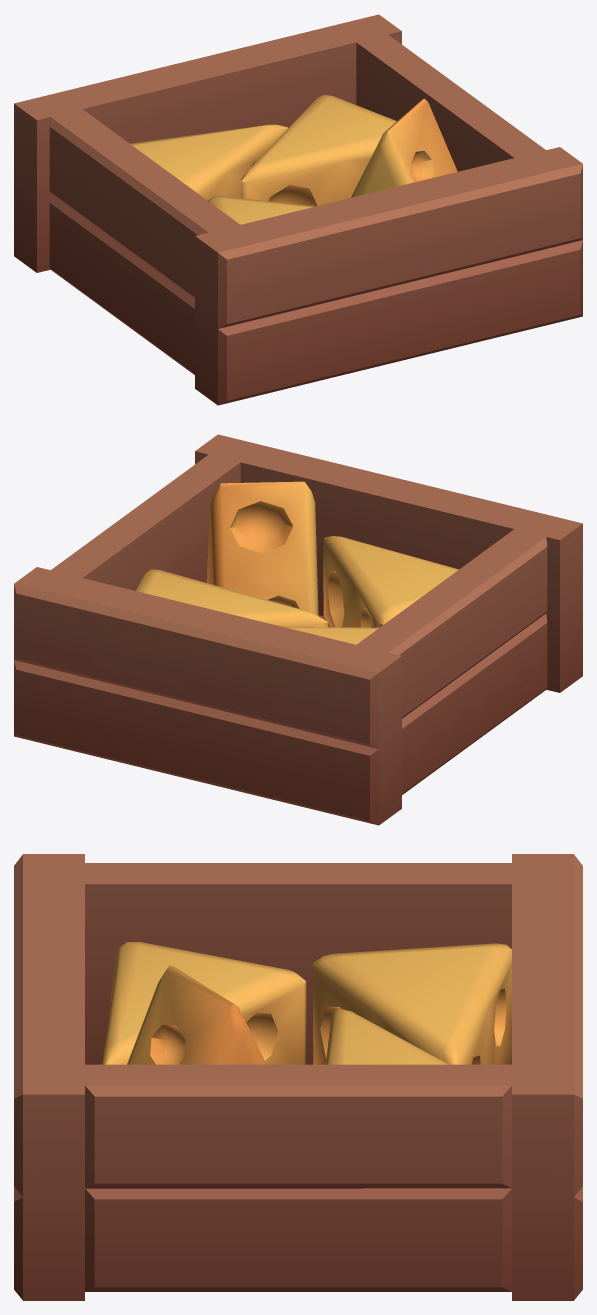
File: crate_cheese.glb
3 views of the same model, one above another, from view 1: azimuth 30°, elevation 25°; view 2: azimuth 150°, elevation 25°; view 3: azimuth 270°, elevation 25° (orthographic). The views are drawn at different scales.
Visible parts, largest first — view 1: crate_cheese; view 2: crate_cheese; view 3: crate_cheese.
Boxes of the visible parts, box(x1,y1,x2,y2) form: crate_cheese: box(14, 14, 582, 405); crate_cheese: box(14, 434, 582, 825); crate_cheese: box(14, 854, 582, 1300).
Bounding box in the file's own units: 2 × 0.946 × 2.
1 material, 1 textured.
